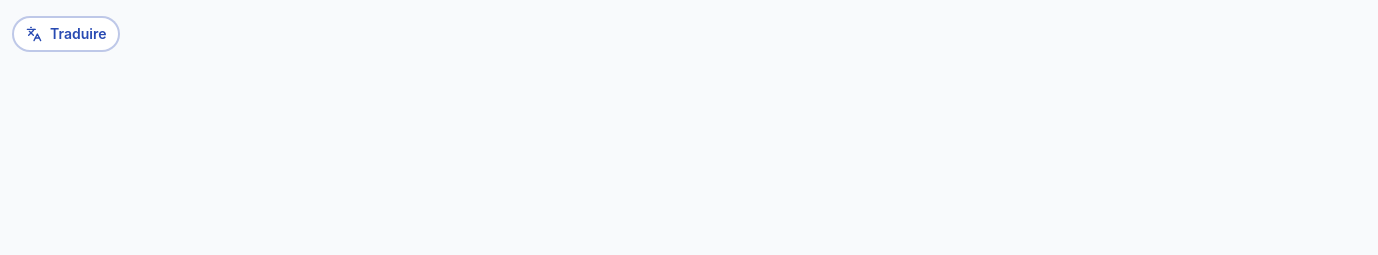
Traduction séparée des leçons › signale un résultat absent au lieu de présenter le français comme traduction
Click the button "Traduire" at (66, 34), box left=12, top=16, right=120, bottom=52
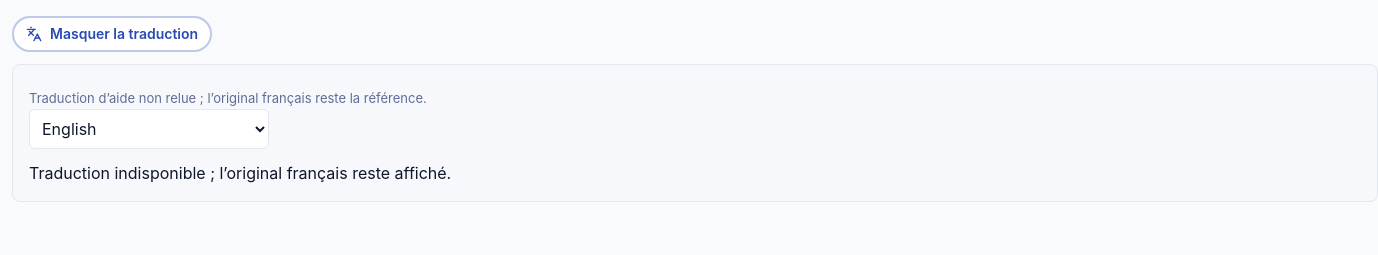
Expected: the text "Source française" is not shown
Now the message "Traduction indisponible ; l’original français reste affiché." is shown, box left=29, top=162, right=451, bottom=182
Select "Français" in the dropdown at (149, 128), box left=29, top=108, right=269, bottom=148
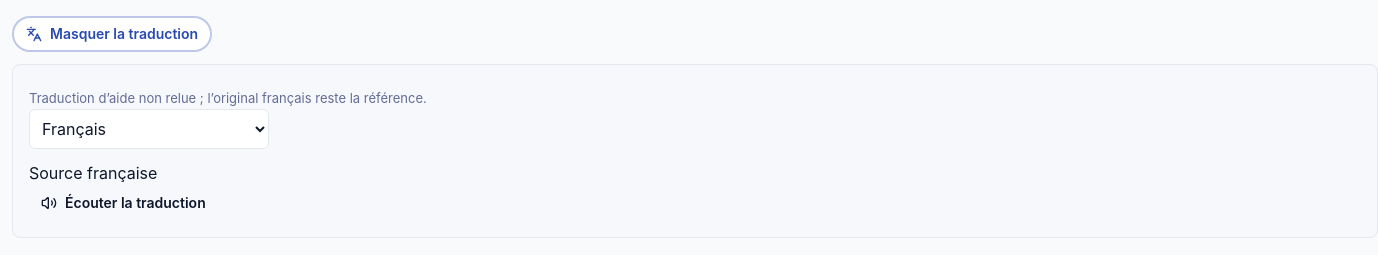
Now the message "Traduction indisponible ; l’original français reste affiché." is gone
Now the text "Source française" is shown, box left=29, top=162, right=157, bottom=182
